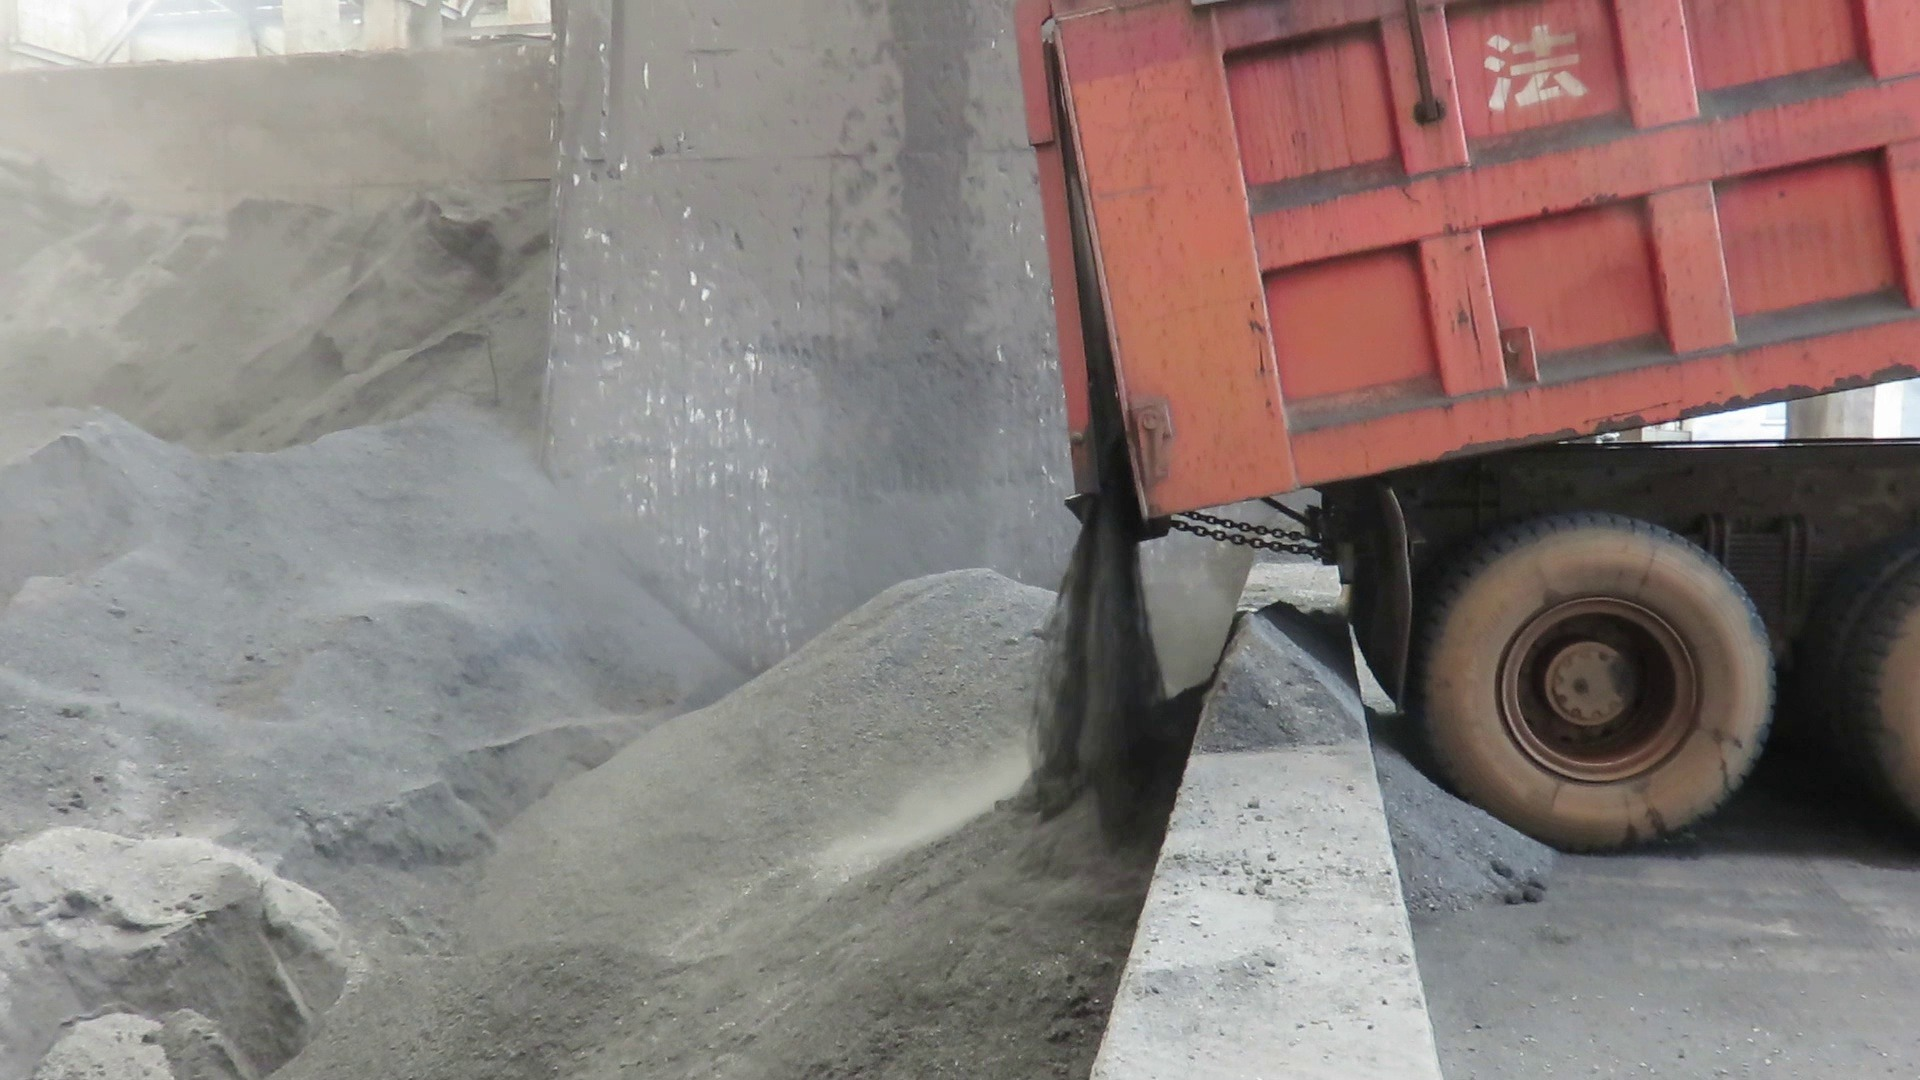dust: (18, 29, 1025, 829)
truck: (996, 0, 1919, 880)
